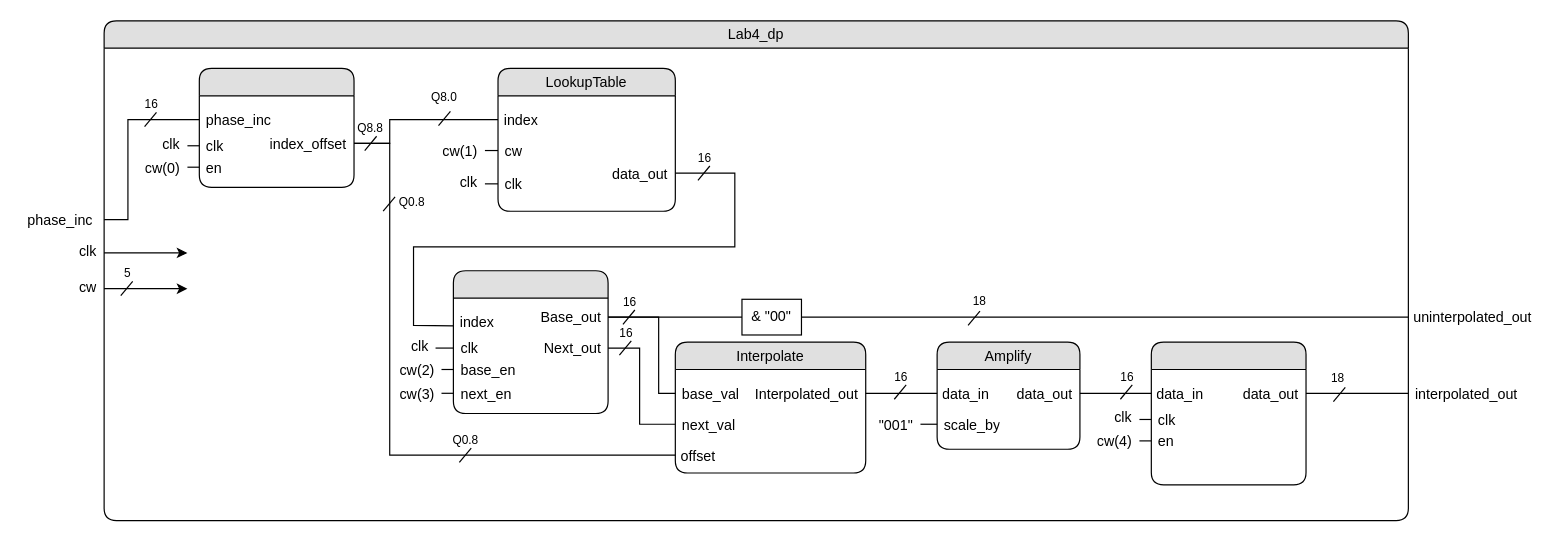
Image size: 1559x541. Some labels were removed from this diagram. The box of each missing label's shape, as (x1, y1, x2, y2) in pixels:
BaseAndNextReg: (452, 270, 608, 414)
IndexOffsetReg: (198, 67, 354, 187)
ResultReg: (1150, 341, 1306, 485)
